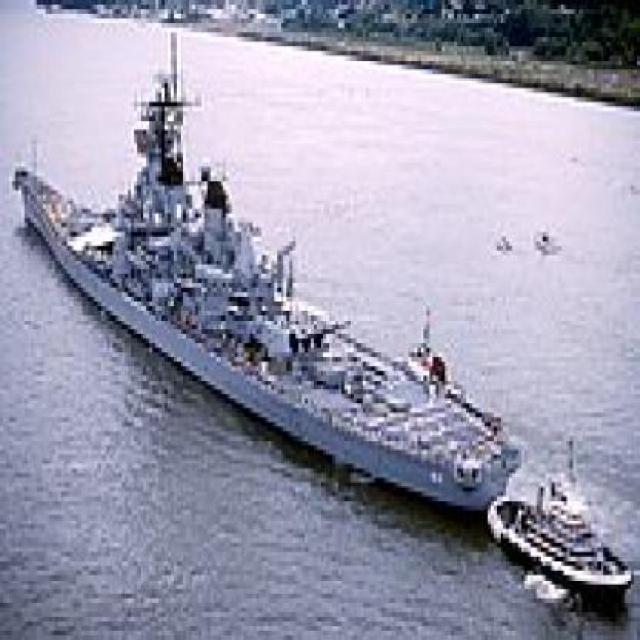warship2: (4, 33, 523, 544)
